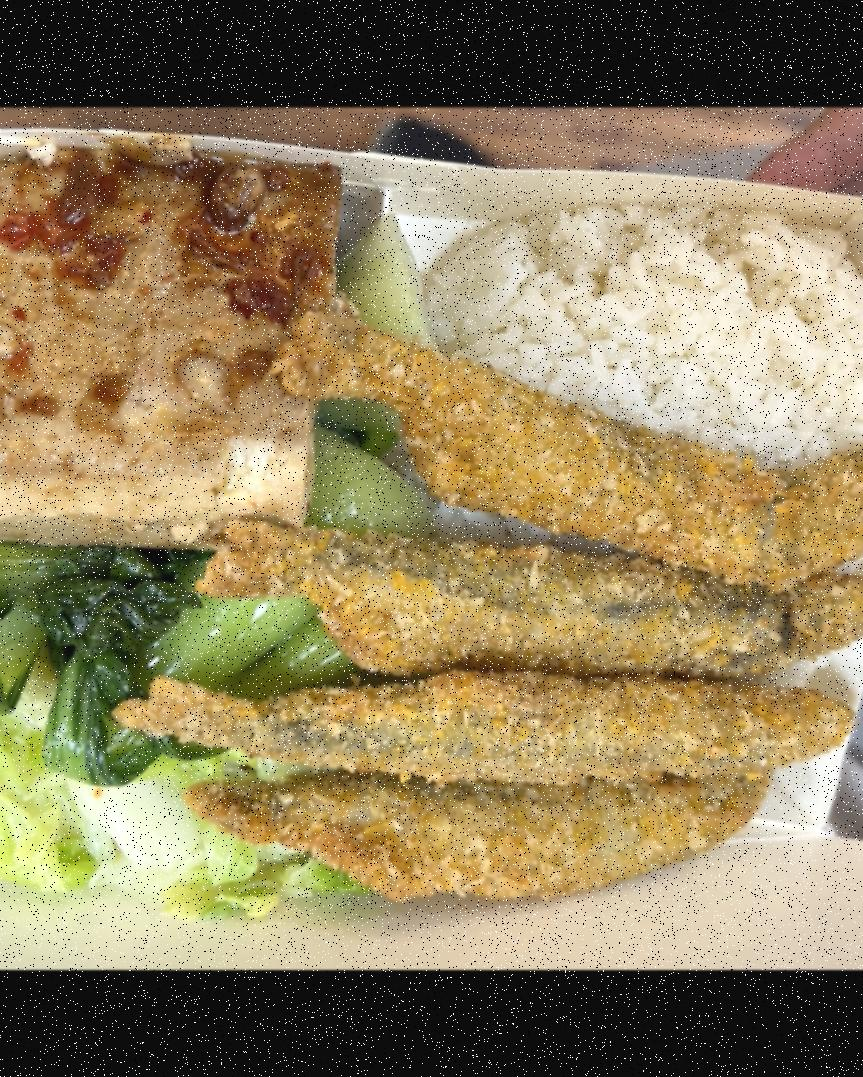big grilled chicken leg: (0, 125, 863, 909)
big herbal chicken leg: (434, 205, 863, 471)
braised fish fillet: (0, 433, 436, 783), (0, 145, 342, 557), (0, 701, 349, 915)
braised pork: (138, 320, 863, 921)
